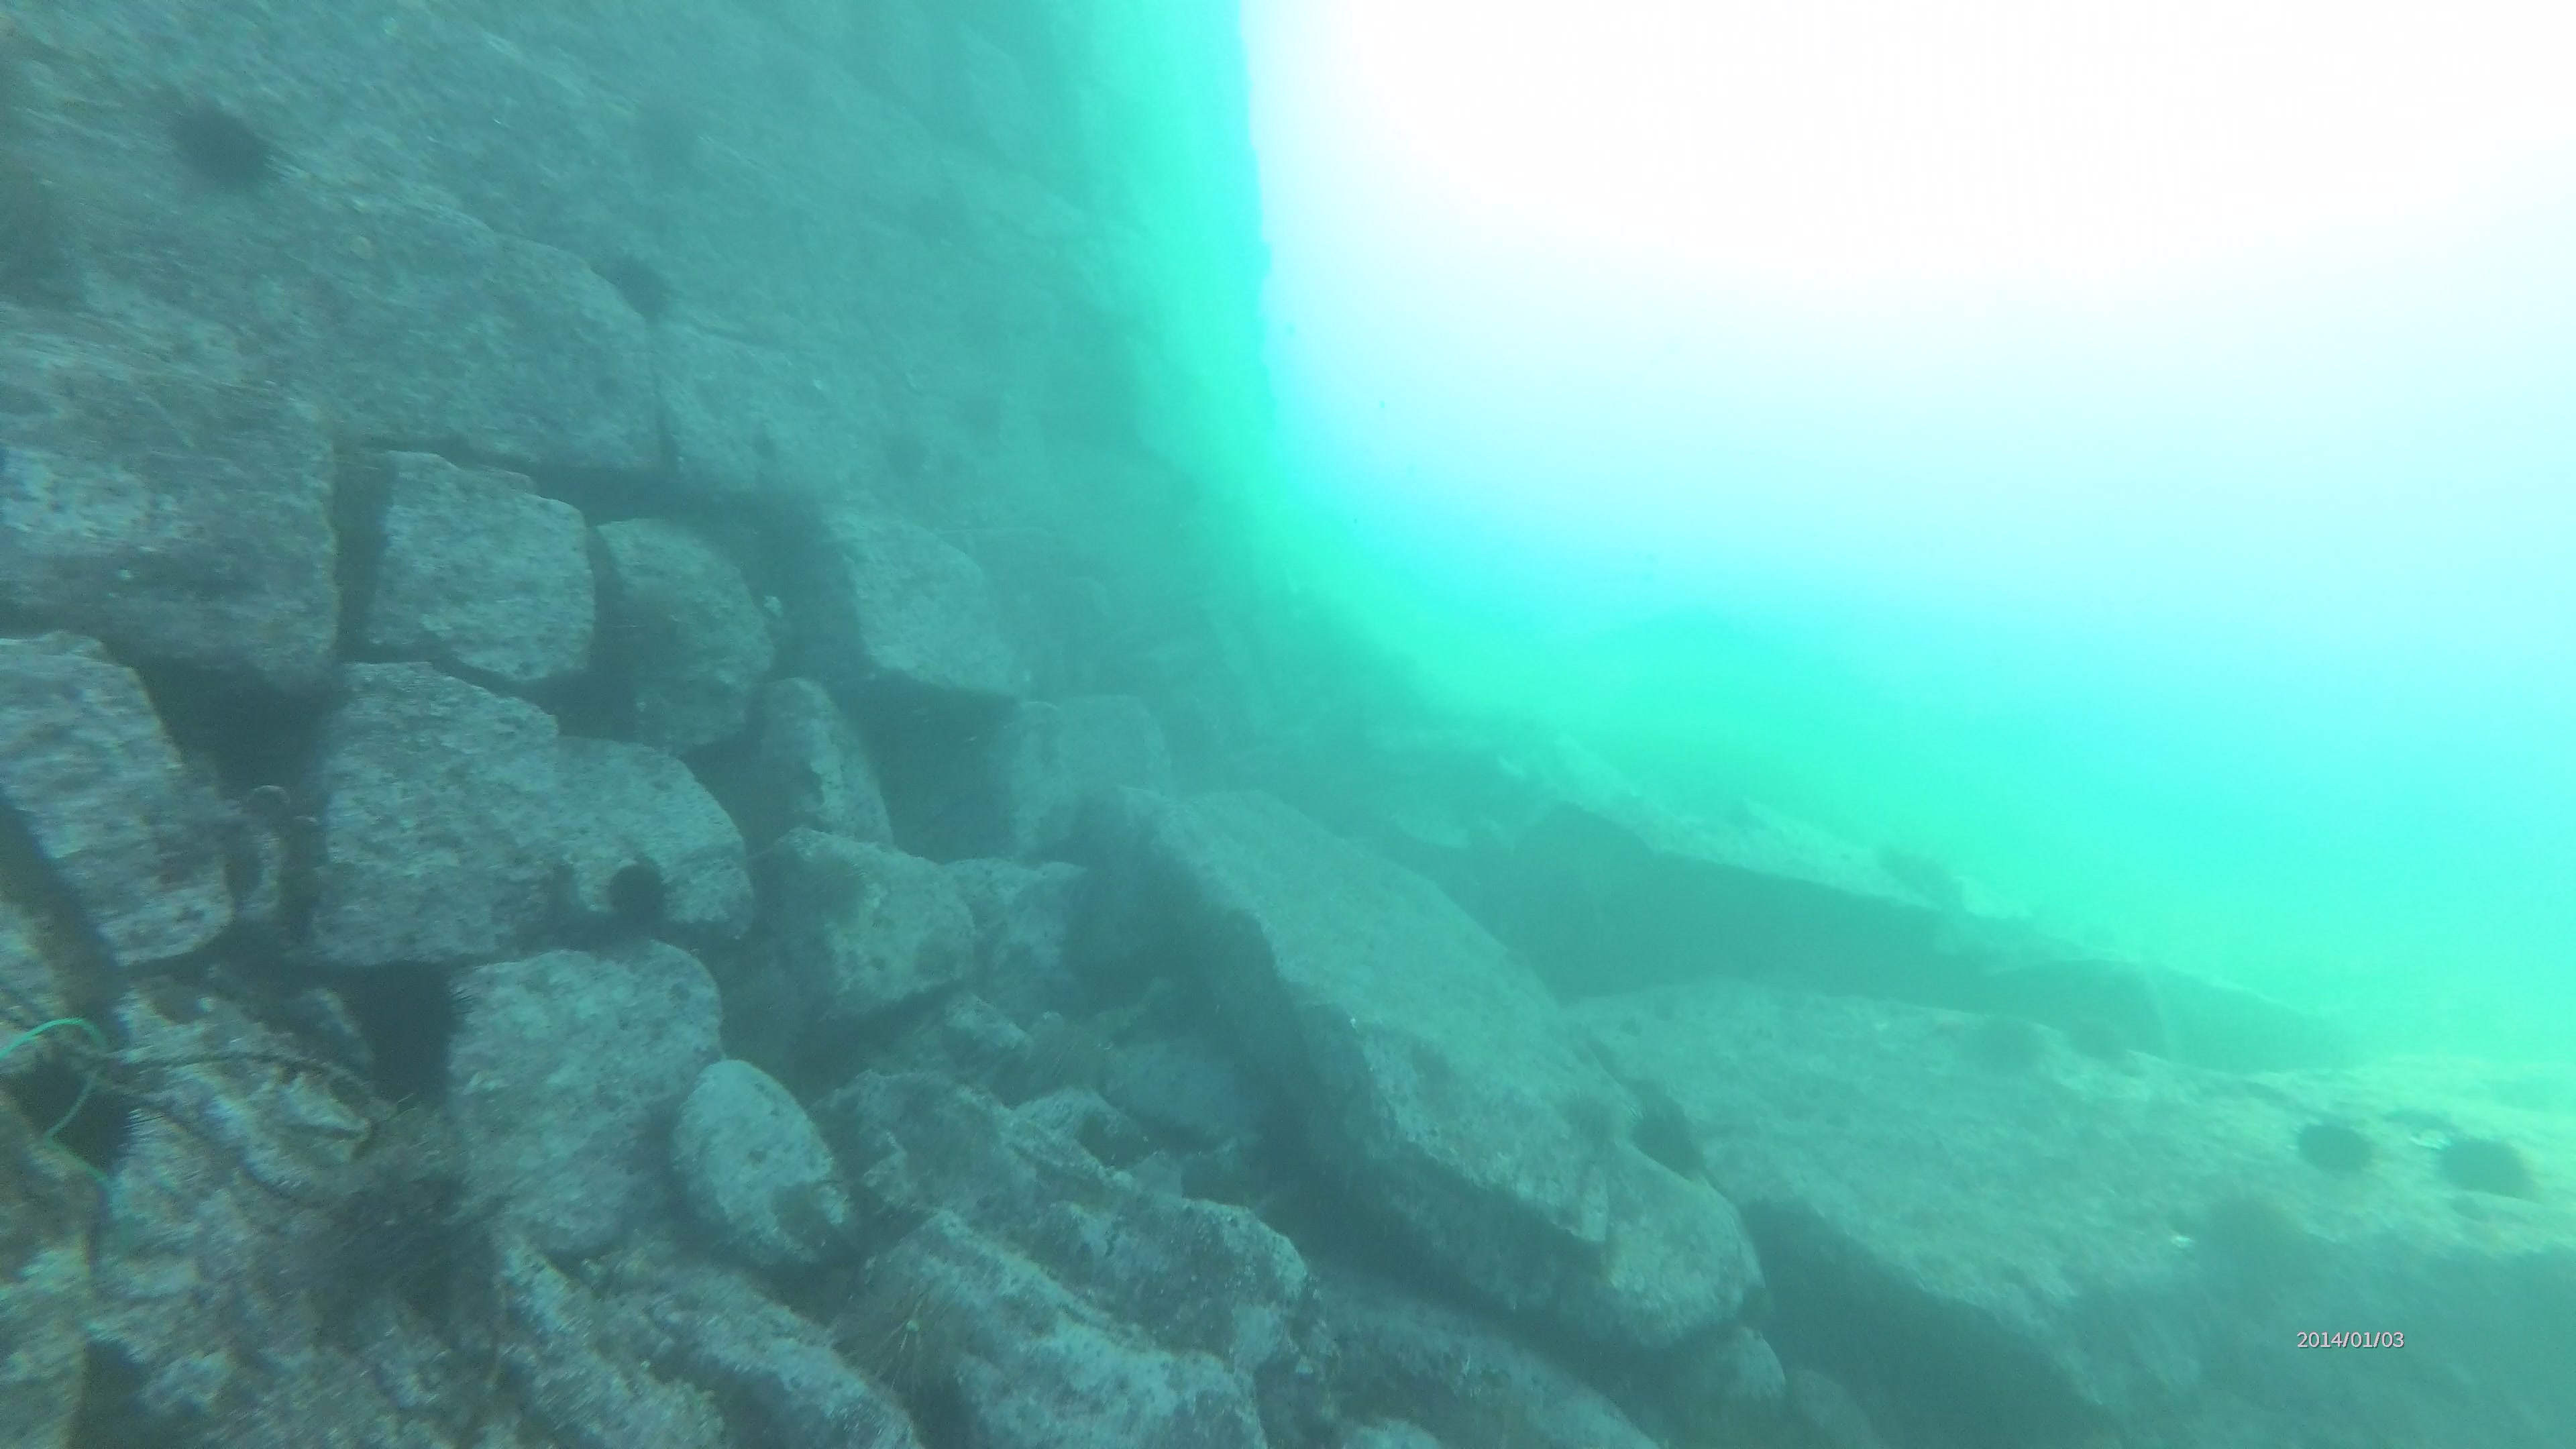echinus: (159, 87, 287, 193), (2436, 1127, 2558, 1210), (2293, 1104, 2388, 1189)
